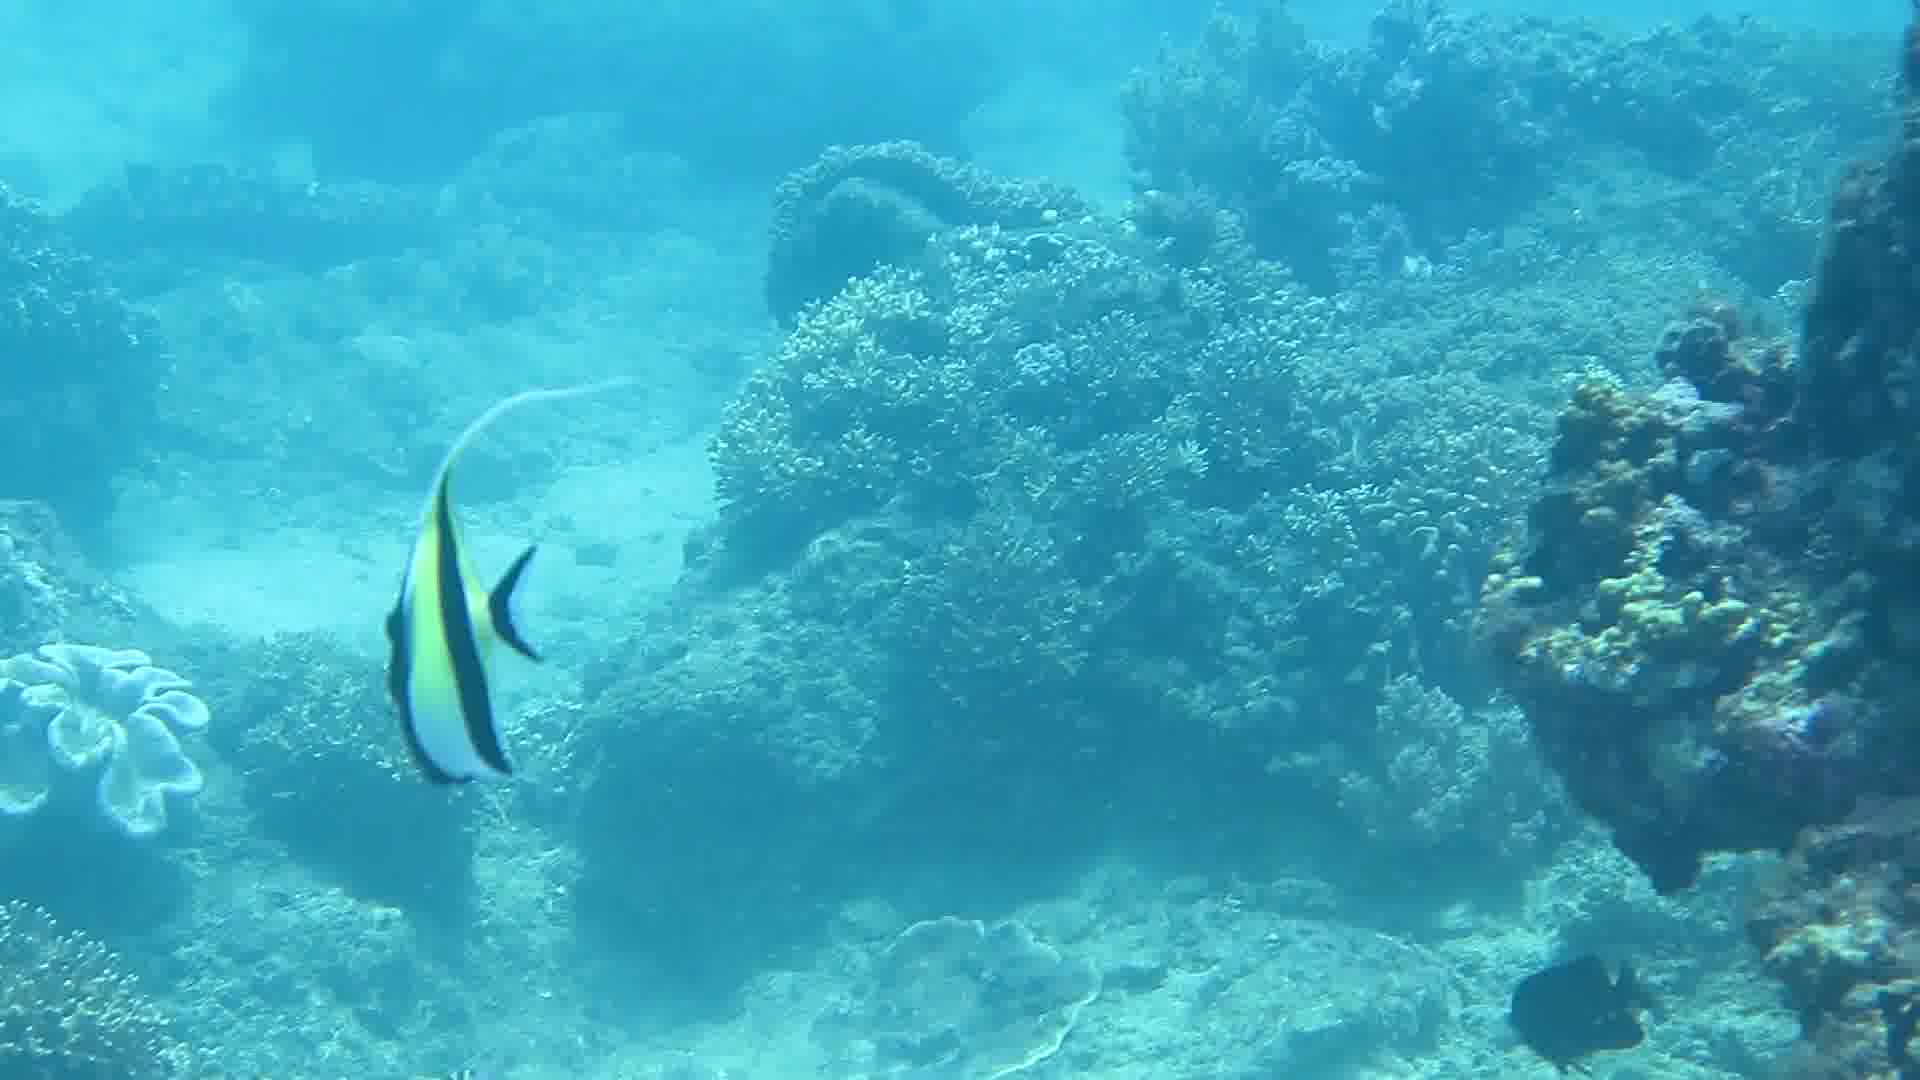Zanclus cornutus: (340, 442, 593, 822)
